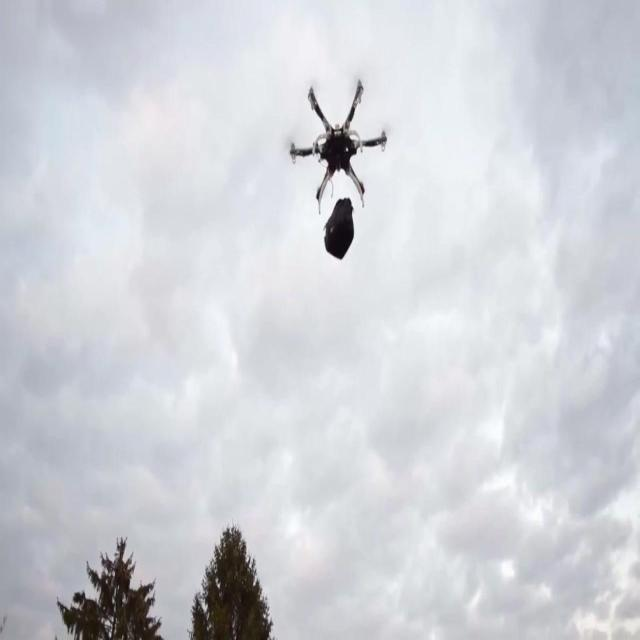drone: (288, 76, 391, 210)
